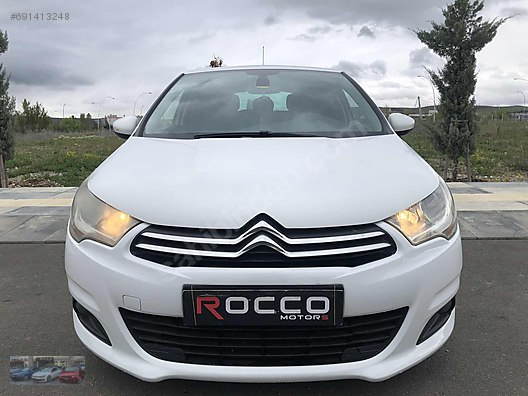citroen: (63, 65, 466, 387)
